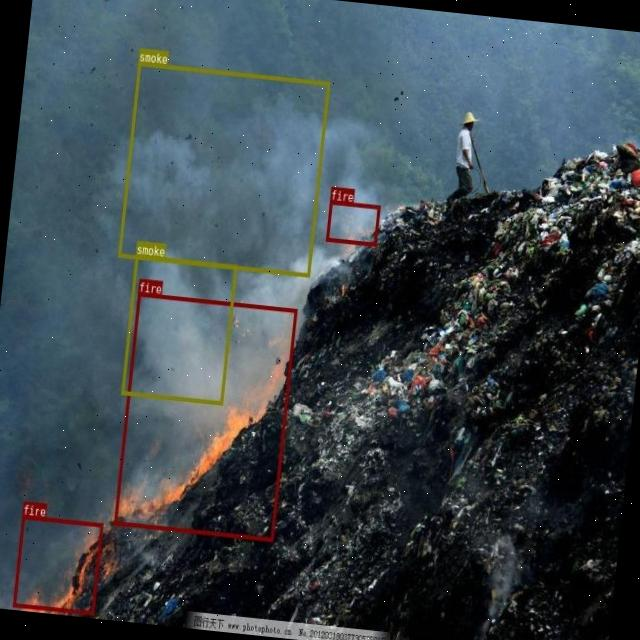fire: (114, 291, 298, 540), (12, 514, 102, 614), (326, 200, 380, 246)
smoke: (118, 62, 329, 276), (120, 253, 237, 404)
